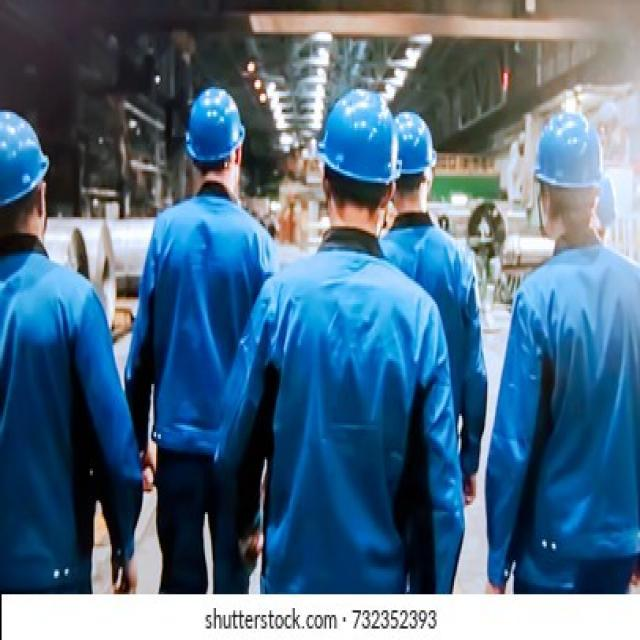safety_helmet: (310, 79, 400, 187), (529, 105, 608, 194), (176, 77, 250, 169), (0, 102, 52, 212), (390, 105, 441, 180)
